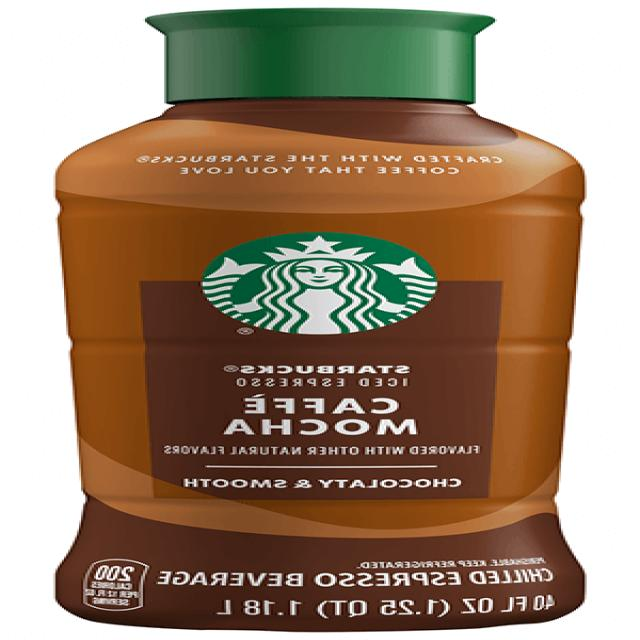starbucks: (194, 233, 443, 340)
